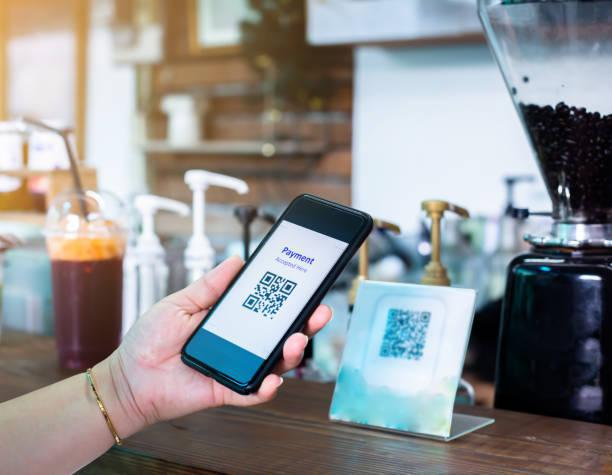Finder pattern: (257, 270, 278, 288), (241, 294, 260, 312), (280, 280, 298, 295), (378, 343, 393, 360), (419, 311, 434, 325), (386, 308, 399, 323)
